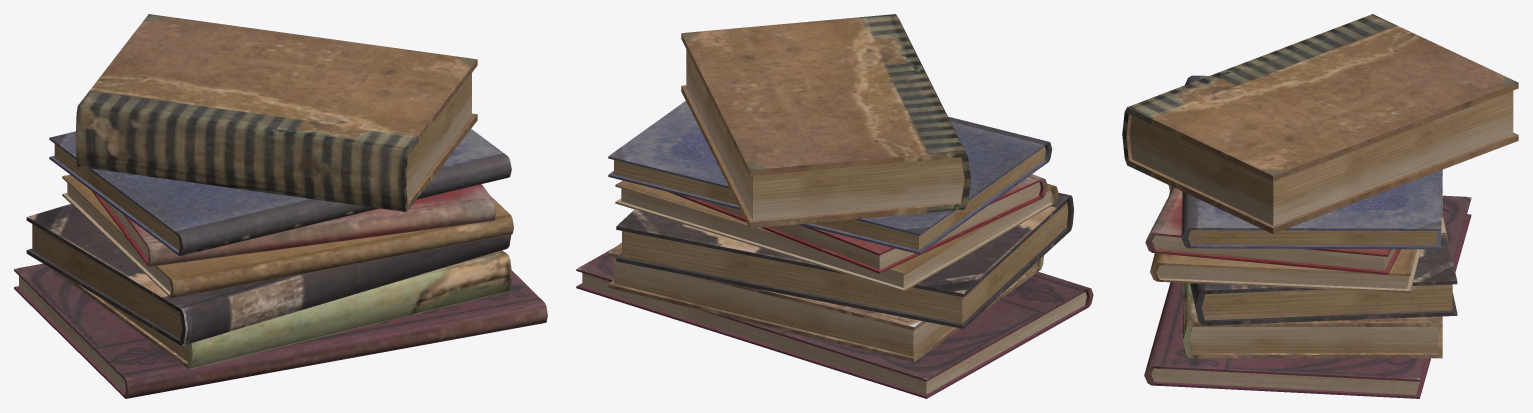
Rendered from SM_Book_Old.002.fbx.
The picture shows the model from 3 angles, left to right: view 1: azimuth 30°, elevation 25°; view 2: azimuth 150°, elevation 25°; view 3: azimuth 270°, elevation 25°; orthographic projection. The views are drawn at different scales.
Visible parts, largest first — view 1: SM_Book_Old.002; view 2: SM_Book_Old.002; view 3: SM_Book_Old.002.
Part boxes in pixels (x1,y1,x2,y2): SM_Book_Old.002: (14,14,547,398); SM_Book_Old.002: (576,14,1093,398); SM_Book_Old.002: (1122,14,1518,398).
Size of the model in its own units: 0.4021 by 0.1983 by 0.3426.
